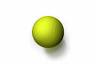tennis ball: (31, 15, 65, 49)
